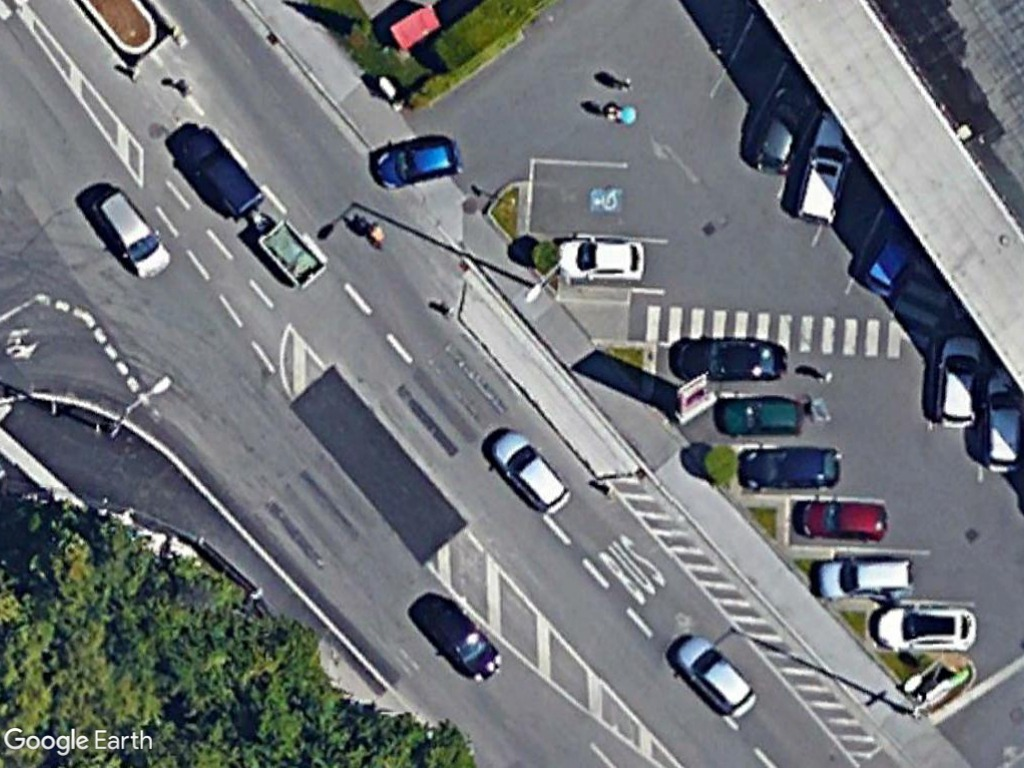car: (481, 423, 574, 521), (83, 186, 175, 283), (413, 594, 505, 686), (669, 630, 761, 722), (749, 81, 818, 178), (669, 331, 786, 388), (870, 597, 983, 652), (932, 328, 988, 435), (366, 131, 463, 192), (733, 443, 845, 493), (552, 232, 652, 287), (809, 554, 920, 603), (788, 497, 892, 546), (717, 394, 807, 440)
van: (172, 124, 265, 226)
